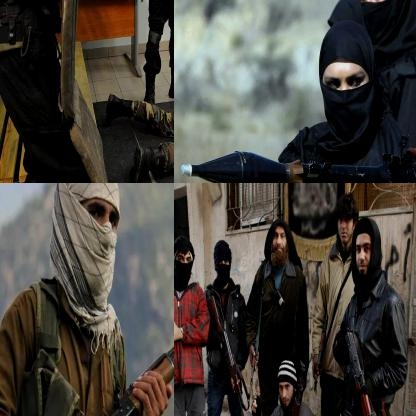rifle: (52, 291, 173, 415), (180, 147, 415, 182), (206, 293, 250, 415), (342, 328, 387, 415), (282, 360, 310, 415), (313, 314, 332, 390)
